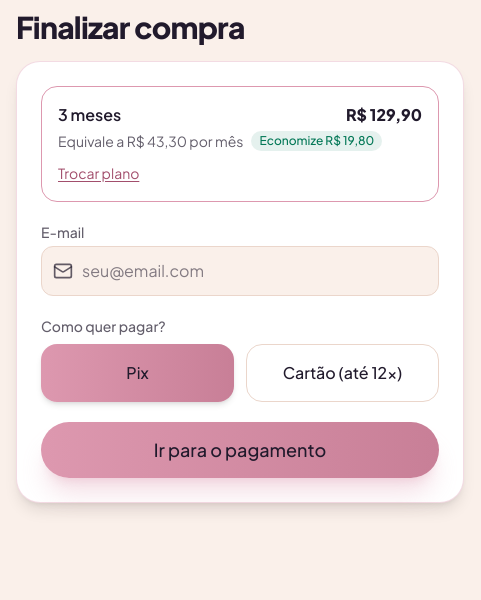
it: Checkout › sugere o e-mail corrigido e corrige o campo ao clicar
Type "ana@gmial.com" into the field labelled "E-mail". click: point(240, 271)
box: [41,246,439,296]
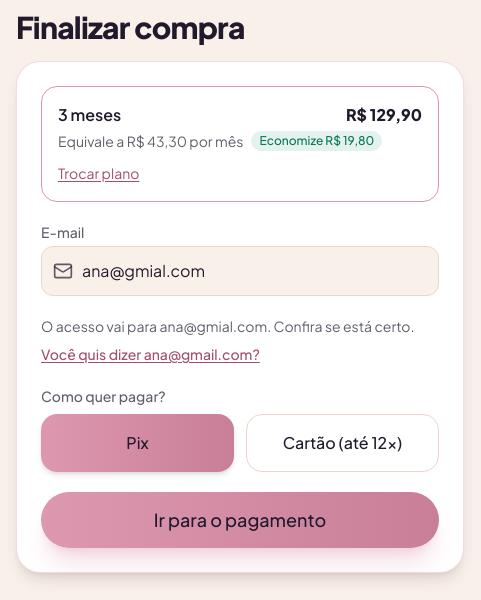
Click the button "Você quis dizer ana@gmail.com?". click: point(150, 354)
box: [41,344,260,364]
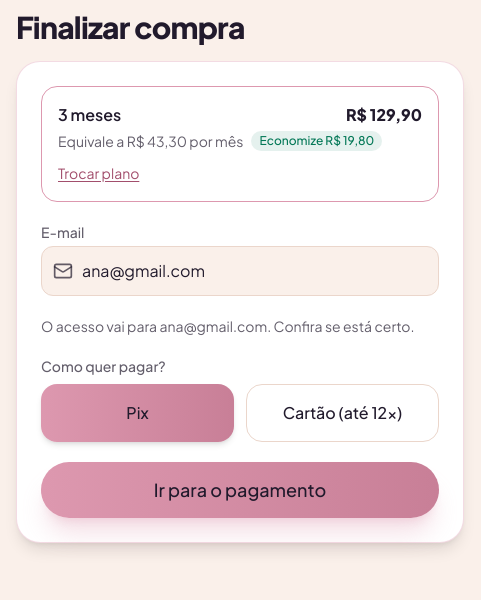
Now the field labelled "E-mail" holds "ana@gmail.com", box [41,246,439,296]
Now the button "Você quis dizer" is gone
Now the text "O acesso vai para ana@gmail.com. Confira se está certo." is shown, box [41,316,439,336]
